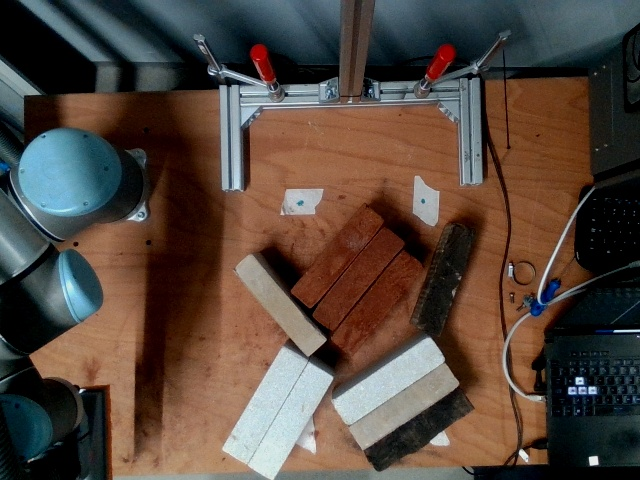brick-side: (331, 251, 424, 354), (291, 205, 383, 308), (311, 227, 403, 330), (335, 340, 444, 423), (350, 365, 459, 448), (233, 256, 322, 354), (225, 352, 304, 461), (249, 368, 328, 477), (366, 390, 472, 470), (422, 226, 477, 333)
